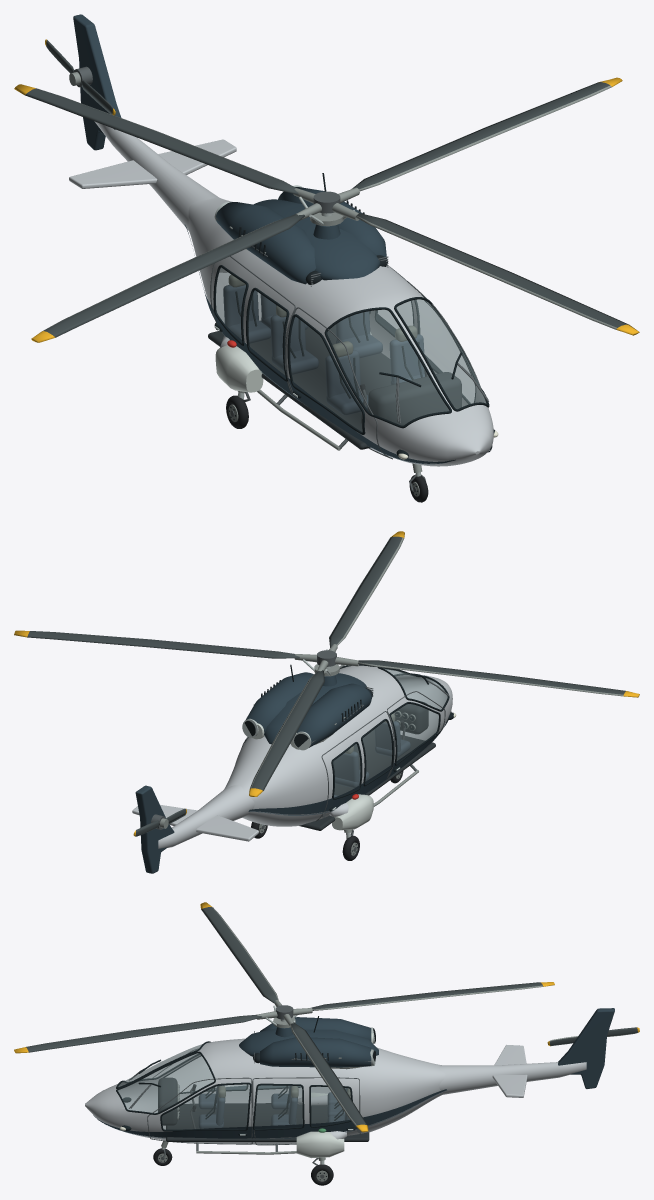
Rendered from Agusta-A109A.glb.
3 renders of one model, top to bottom at view 1: azimuth 30°, elevation 25°; view 2: azimuth 150°, elevation 25°; view 3: azimuth 270°, elevation 25°, orthographic. The views are drawn at different scales.
Visible parts, largest first — view 1: 01 | monocoque and doors | surfaces, MainRotor | surfaces, 02 | crew and passenger cabin | surfaces, 03 | twin engines and transmission | surfaces, 04 | tail cone and stabilizers | surfaces, AGUSTA fitted exterior, 05 | undercarriage extended | surfaces, TailRotor | surfaces; view 2: 01 | monocoque and doors | surfaces, MainRotor | surfaces, 03 | twin engines and transmission | surfaces, 04 | tail cone and stabilizers | surfaces, 02 | crew and passenger cabin | surfaces, AGUSTA fitted exterior, 05 | undercarriage extended | surfaces; view 3: 01 | monocoque and doors | surfaces, MainRotor | surfaces, 02 | crew and passenger cabin | surfaces, 04 | tail cone and stabilizers | surfaces, 03 | twin engines and transmission | surfaces, AGUSTA fitted exterior, 05 | undercarriage extended | surfaces, TailRotor | surfaces.
Boxes of the visible parts, x1=… form: 01 | monocoque and doors | surfaces: x1=184, y1=196, x2=498, y2=466; MainRotor | surfaces: x1=14, y1=77, x2=639, y2=342; 02 | crew and passenger cabin | surfaces: x1=208, y1=275, x2=461, y2=449; 03 | twin engines and transmission | surfaces: x1=214, y1=173, x2=388, y2=286; 04 | tail cone and stabilizers | surfaces: x1=69, y1=14, x2=236, y2=272; AGUSTA fitted exterior: x1=215, y1=249, x2=371, y2=392; 05 | undercarriage extended | surfaces: x1=220, y1=335, x2=428, y2=502; TailRotor | surfaces: x1=45, y1=39, x2=115, y2=115; 01 | monocoque and doors | surfaces: x1=224, y1=664, x2=456, y2=826; MainRotor | surfaces: x1=14, y1=531, x2=639, y2=796; 03 | twin engines and transmission | surfaces: x1=242, y1=664, x2=373, y2=750; 04 | tail cone and stabilizers | surfaces: x1=132, y1=785, x2=258, y2=873; 02 | crew and passenger cabin | surfaces: x1=299, y1=701, x2=435, y2=830; AGUSTA fitted exterior: x1=252, y1=723, x2=373, y2=830; 05 | undercarriage extended | surfaces: x1=251, y1=771, x2=403, y2=860; 01 | monocoque and doors | surfaces: x1=85, y1=1038, x2=446, y2=1154; MainRotor | surfaces: x1=14, y1=902, x2=554, y2=1132; 02 | crew and passenger cabin | surfaces: x1=158, y1=1077, x2=369, y2=1141; 04 | tail cone and stabilizers | surfaces: x1=439, y1=1008, x2=614, y2=1097; 03 | twin engines and transmission | surfaces: x1=239, y1=1016, x2=378, y2=1067; AGUSTA fitted exterior: x1=296, y1=1033, x2=373, y2=1158; 05 | undercarriage extended | surfaces: x1=153, y1=1094, x2=346, y2=1185; TailRotor | surfaces: x1=547, y1=1027, x2=639, y2=1046.
Size of the model in its own units: 10.58 by 3.39 by 12.24.
